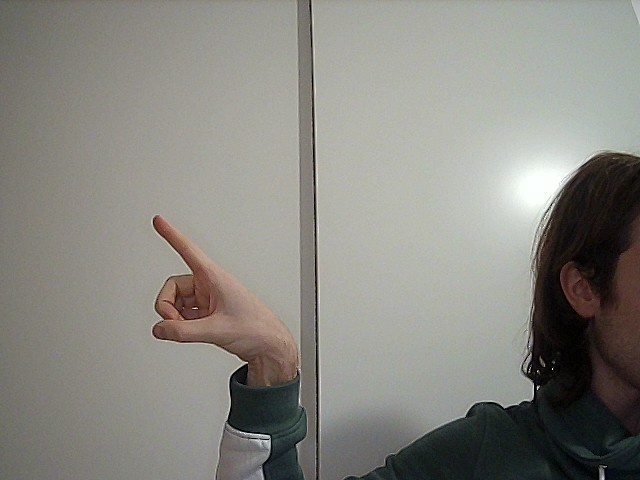d: (106, 199, 325, 374)
